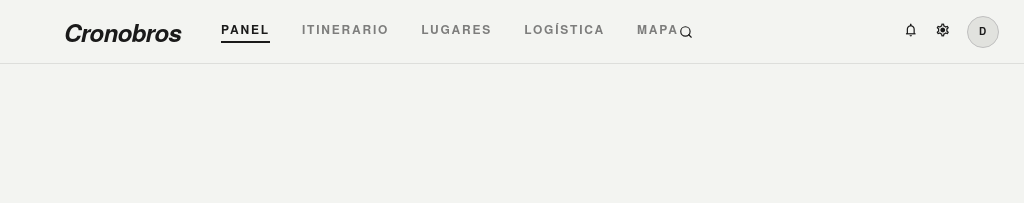
Scenario: Header account menu › opens the account menu with "Mis viajes" and "Cerrar sesión" when the avatar is clicked
Click the button named "damian jure" at coordinates (983, 32), box [967,16,999,48]
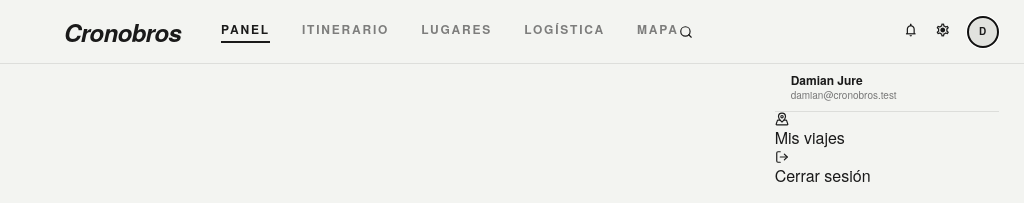
Result: the text "Mis viajes" is shown at [775,112,845,148]
Result: the text "Cerrar sesión" is shown at [775,150,870,186]
